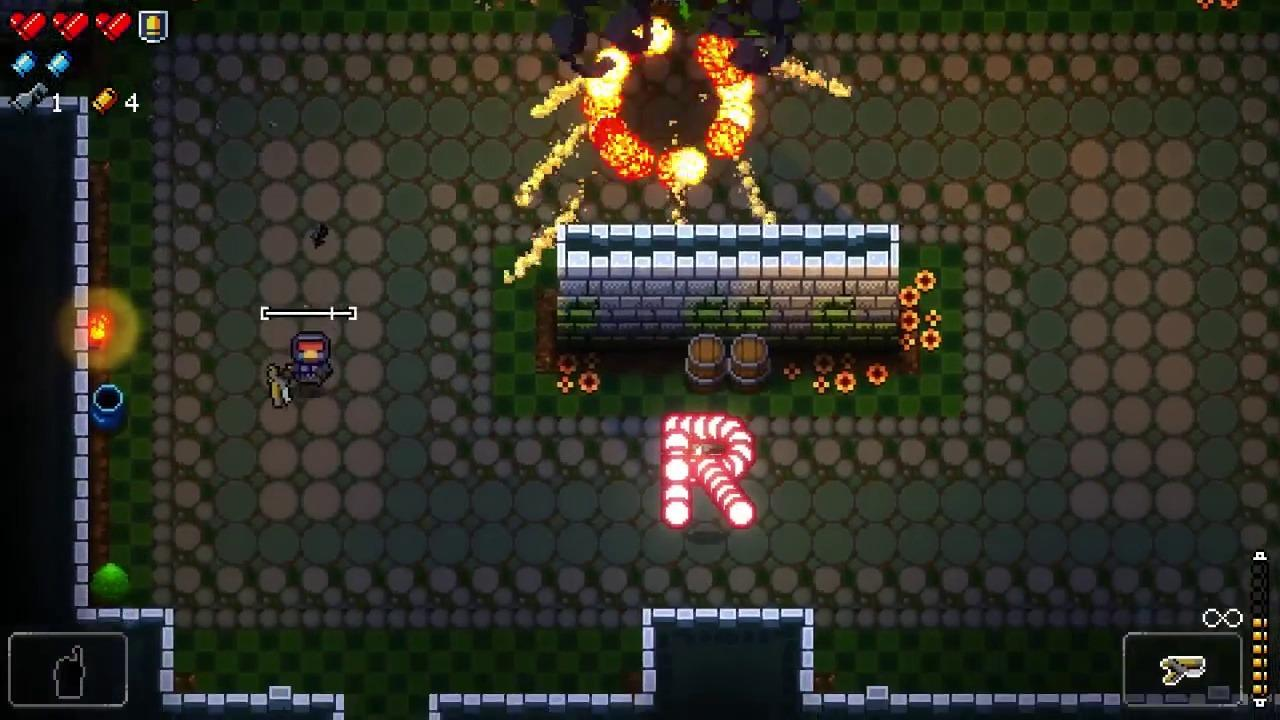bullet: (727, 499, 755, 527), (664, 499, 691, 527), (664, 429, 692, 456), (707, 471, 735, 498), (720, 452, 748, 479), (721, 489, 750, 515), (692, 413, 718, 442), (720, 416, 748, 442), (714, 480, 740, 507), (708, 411, 734, 438), (728, 428, 755, 452), (664, 484, 691, 507), (703, 464, 728, 488), (666, 458, 690, 482), (728, 443, 754, 465), (665, 414, 689, 437)
player: (291, 331, 332, 388)
wall: (557, 224, 899, 355)
